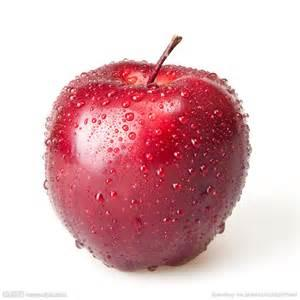apple: (42, 40, 250, 273)
